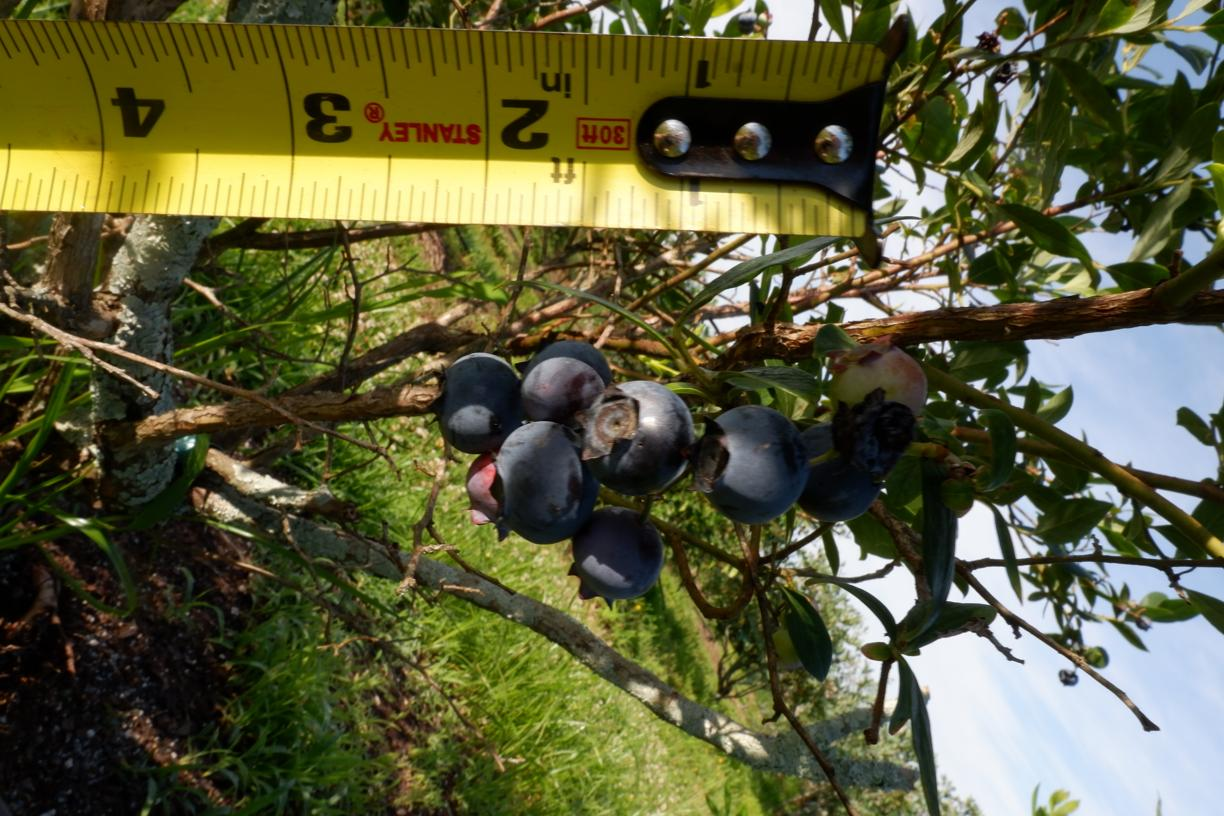Immature: (828, 336, 926, 416), (464, 452, 497, 523)
Mature: (686, 404, 811, 523), (574, 381, 696, 495), (487, 422, 599, 544), (427, 352, 530, 454), (566, 506, 665, 610), (519, 340, 613, 439), (798, 421, 883, 522), (831, 386, 921, 481)
